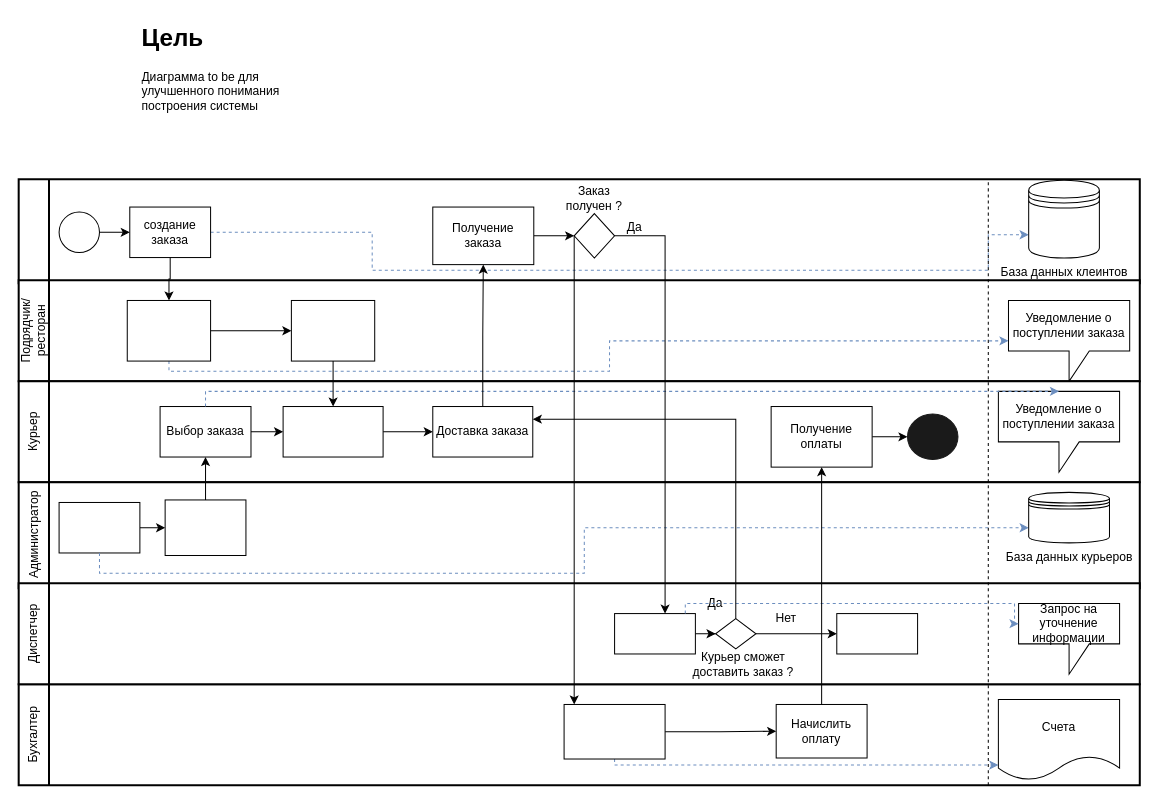
Some shapes in this 1157 by 804 pixel diagram are drawn without their labels. Here are the shapes that lost their labels. From the top down, the box of each, then its label:
(17, 178, 1140, 284): Клиент
(126, 299, 211, 361): Сбор заказа
(290, 299, 375, 361): Передача заказа курьеру
(282, 406, 383, 457): Прибытие на место
(58, 501, 140, 553): Регистрация курьера
(164, 499, 246, 556): Выдача прав доступа
(614, 613, 695, 654): Связаться с курьером
(836, 613, 918, 654): Переназначить заказ
(563, 703, 665, 759): Получение информации для начисления оплаты
